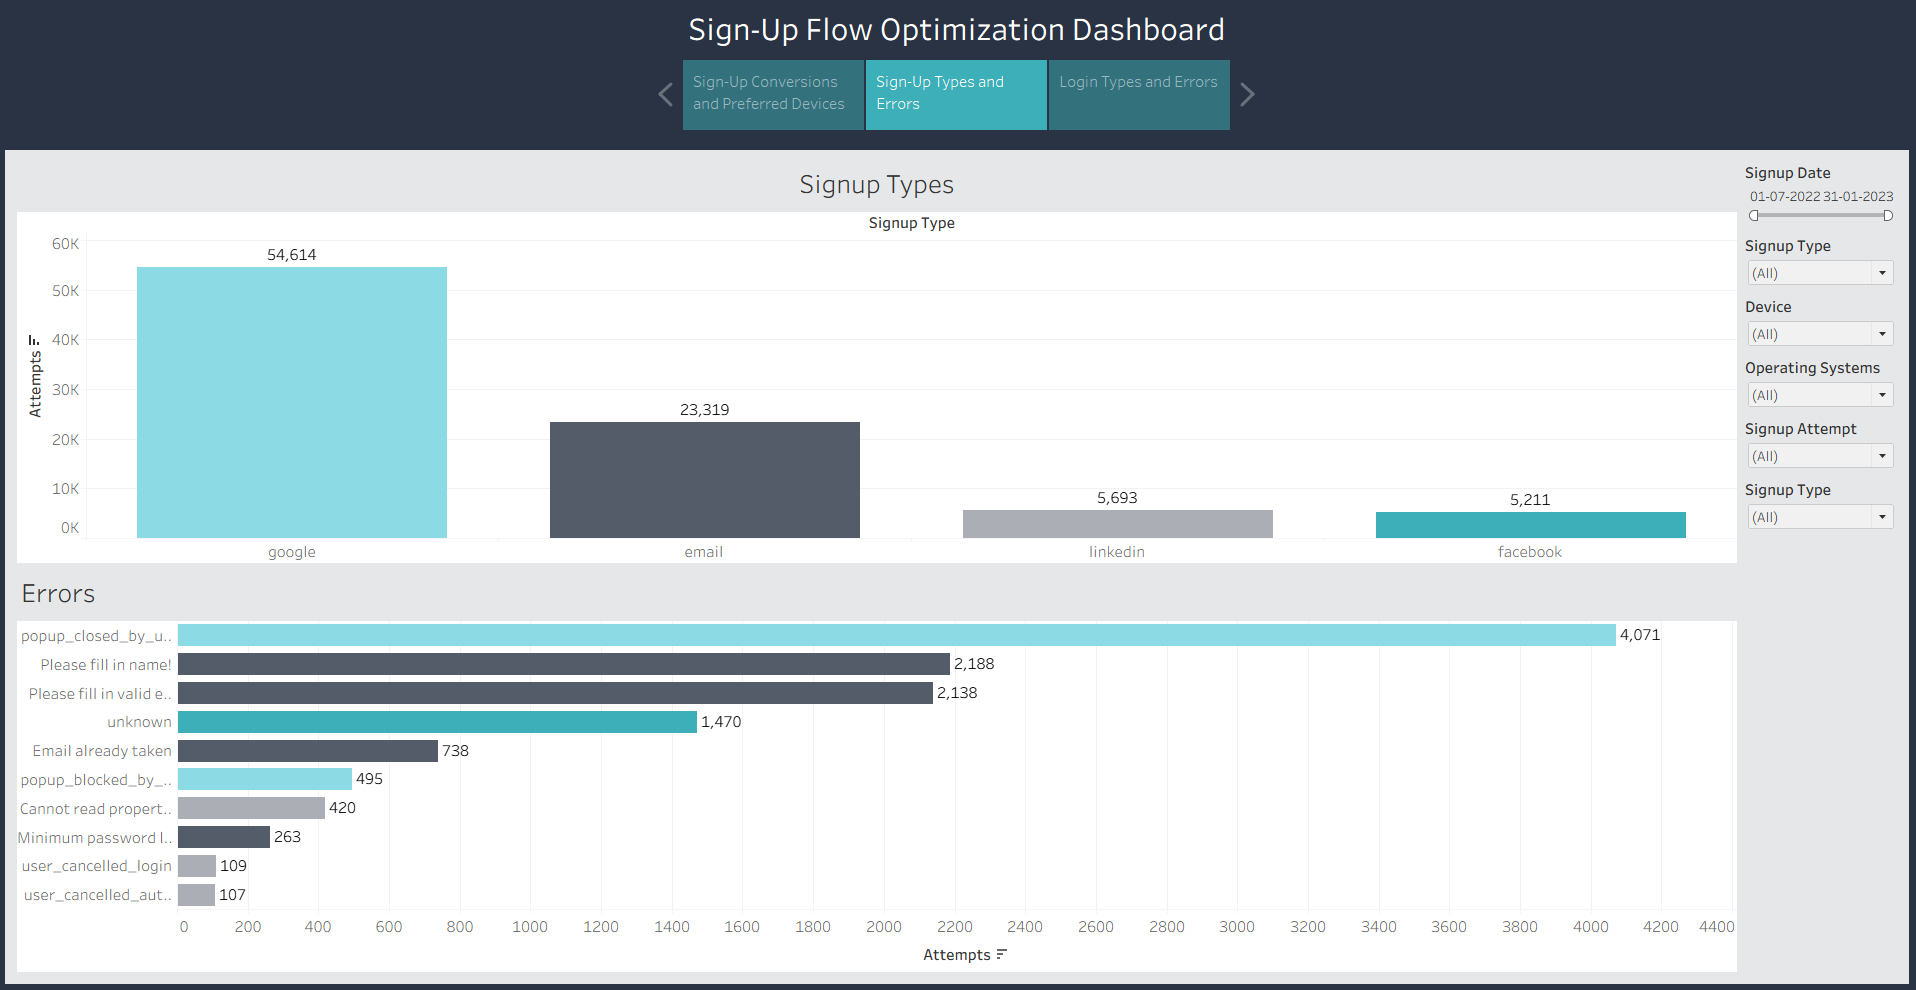

This screenshot's page, from the dashboard's own definition file:
{"tool":"tableau","page":{"name":"Sign up Types and Errors","canvas":[1000,1000],"units":"permille","ordinal":2},"visuals":[{"type":"worksheet","title":"Signup Types","mark":"Automatic","rows":["Calculation_564638856160370690"],"cols":["signup_type"],"box":[4.8,10,893.8,490]},{"type":"filter","title":"Signup Types","param":"[federated.1y0hurk0js6cer157yo0h0cszkip].[none:signup_date:qk]","box":[898.6,10,96.6,91.1]},{"type":"filter","title":"Signup Types","param":"[federated.1y0hurk0js6cer157yo0h0cszkip].[none:signup_type:nk]","box":[898.6,101.1,96.6,76.2]},{"type":"filter","title":"Signup Types","param":"[federated.1y0hurk0js6cer157yo0h0cszkip].[none:device:nk]","box":[898.6,177.3,96.6,76.2]},{"type":"filter","title":"Signup Types","param":"[federated.1y0hurk0js6cer157yo0h0cszkip].[Session Os (group)]","box":[898.6,253.5,96.6,76.2]},{"type":"filter","title":"Signup Types","param":"[federated.1y0hurk0js6cer157yo0h0cszkip].[none:signup_attempt:nk]","box":[898.6,329.6,96.6,76.2]},{"type":"filter","title":"Errors","param":"[federated.1y0hurk0js6cer157yo0h0cszkip].[none:signup_type:nk]","box":[898.6,405.8,96.6,76.2]},{"type":"worksheet","title":"Errors","mark":"Automatic","rows":["error_message"],"cols":["Calculation_564638856160370690"],"box":[4.8,500,893.8,490]}]}

Visuals, with their boxes on the dashboard's canvas, which has no fixed pixel size, in thousandths of its width and height (x1, y1, x2, y2). These are canvas units, not pixel positions in the 1916x990 screenshot, which may show the page scaled, cropped or inside an application window:
"Signup Types" worksheet: left=5, top=10, right=899, bottom=500
"Signup Types" filter: left=899, top=10, right=995, bottom=101
"Signup Types" filter: left=899, top=101, right=995, bottom=177
"Signup Types" filter: left=899, top=177, right=995, bottom=254
"Signup Types" filter: left=899, top=254, right=995, bottom=330
"Signup Types" filter: left=899, top=330, right=995, bottom=406
"Errors" filter: left=899, top=406, right=995, bottom=482
"Errors" worksheet: left=5, top=500, right=899, bottom=990
